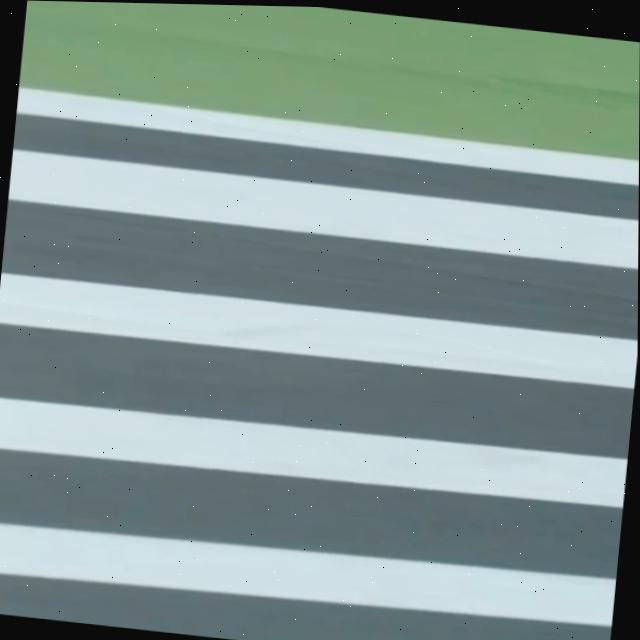right: (16, 86, 639, 184)
